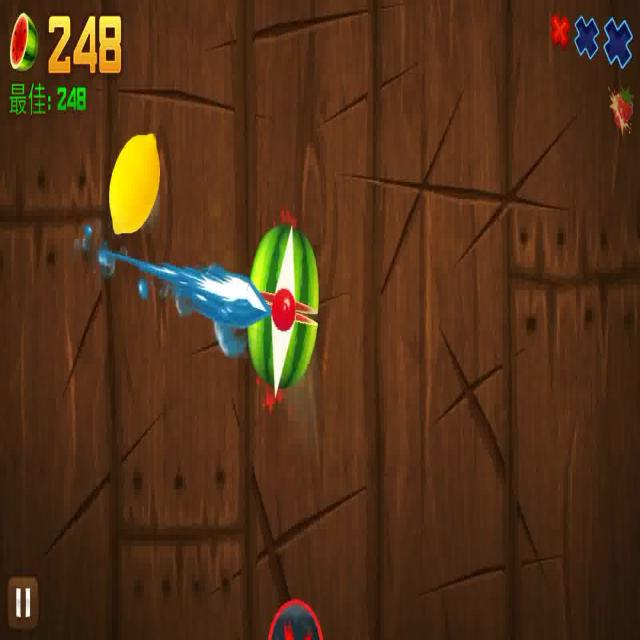bomb: (267, 598, 326, 640)
fruit: (250, 225, 320, 385), (107, 125, 162, 231)
